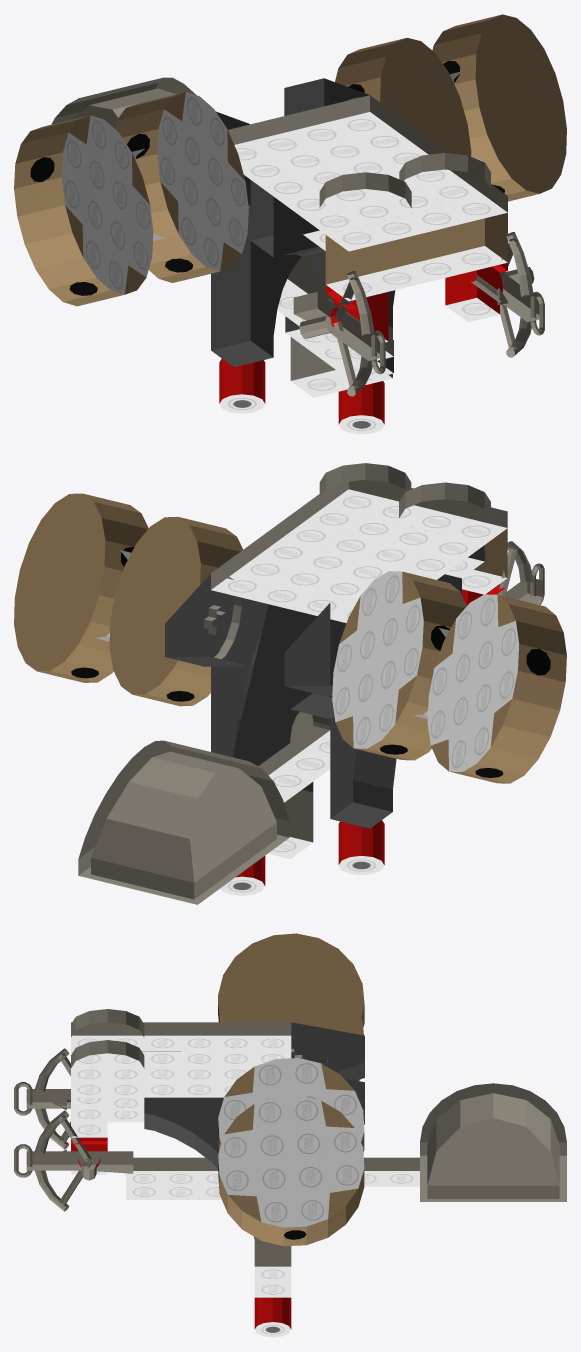
3 views of the same model, one above another, from view 1: azimuth 30°, elevation 25°; view 2: azimuth 150°, elevation 25°; view 3: azimuth 270°, elevation 25° (orthographic). The views are drawn at different scales.
Visible parts, largest first — view 1: 094_shape34, 103_shape39, 084_shape34, 069_shape24, 100_shape38, 038_shape7, 075_shape28, 031_shape7, 050_shape16, 061_shape20, 066_shape23, 045_shape11 (+2 smaller); view 2: 094_shape34, 084_shape34, 103_shape39, 069_shape24, 050_shape16, 045_shape11, 061_shape20, 066_shape23, 038_shape7, 100_shape38, 056_shape20, 080_shape31; view 3: 084_shape34, 103_shape39, 050_shape16, 094_shape34, 069_shape24, 045_shape11, 031_shape7, 066_shape23, 038_shape7, 100_shape38, 056_shape20, 010_shape2 (+1 smaller).
Boxes of the visible parts, box(x1,y1,x2,y2) form: 094_shape34: box(14, 92, 248, 306); 103_shape39: box(228, 95, 507, 251); 084_shape34: box(335, 14, 566, 201); 069_shape24: box(211, 78, 395, 367); 100_shape38: box(325, 212, 507, 301); 038_shape7: box(293, 271, 385, 396); 075_shape28: box(325, 262, 507, 342); 031_shape7: box(499, 232, 544, 357); 050_shape16: box(51, 77, 196, 127); 061_shape20: box(219, 358, 265, 413); 066_shape23: box(290, 325, 392, 397); 045_shape11: box(277, 256, 393, 366); 094_shape34: box(332, 571, 566, 783); 084_shape34: box(14, 493, 242, 706); 103_shape39: box(211, 463, 507, 622); 069_shape24: box(165, 545, 484, 828); 050_shape16: box(78, 740, 289, 904); 045_shape11: box(258, 712, 330, 802); 061_shape20: box(338, 807, 384, 875); 066_shape23: box(268, 790, 313, 859); 038_shape7: box(497, 541, 544, 604); 100_shape38: box(462, 528, 507, 594); 056_shape20: box(220, 856, 265, 895); 080_shape31: box(203, 574, 241, 659); 084_shape34: box(218, 1058, 364, 1246); 103_shape39: box(71, 1009, 291, 1122); 050_shape16: box(420, 1083, 566, 1201); 094_shape34: box(218, 933, 364, 1080); 069_shape24: box(107, 1022, 364, 1238); 045_shape11: box(126, 1157, 419, 1186); 031_shape7: box(14, 1110, 133, 1211); 066_shape23: box(254, 1237, 291, 1297); 038_shape7: box(14, 1048, 70, 1149); 100_shape38: box(71, 1097, 107, 1137); 056_shape20: box(254, 1297, 291, 1337); 010_shape2: box(126, 1186, 221, 1199).
Bounding box in the file's own units: 9.28 × 6.8 × 12.04.
11 materials, 3 textured.
